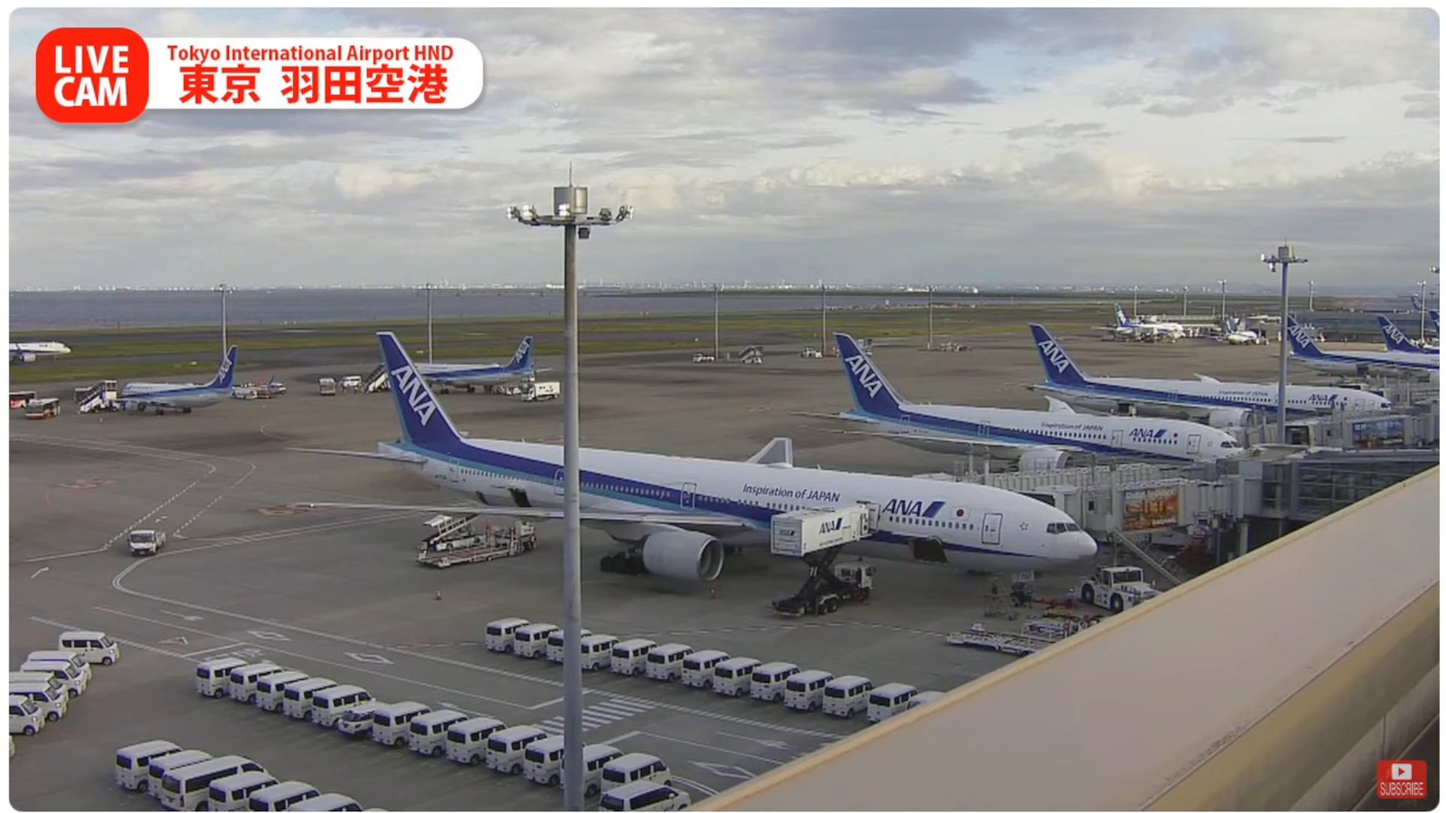APS: (1067, 564, 1165, 614)
Aerobridge: (937, 438, 1217, 490), (1025, 480, 1229, 535)
Airplane: (279, 328, 1098, 610)
Catering: (770, 502, 879, 620)
JCPL: (414, 511, 533, 568), (942, 622, 1058, 653)
Skyloader: (417, 513, 486, 554)
Tractor: (120, 526, 159, 562)
Window: (1286, 455, 1435, 523)
